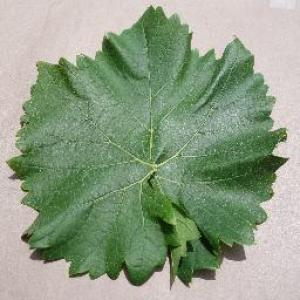Folha: (6, 4, 289, 288)
